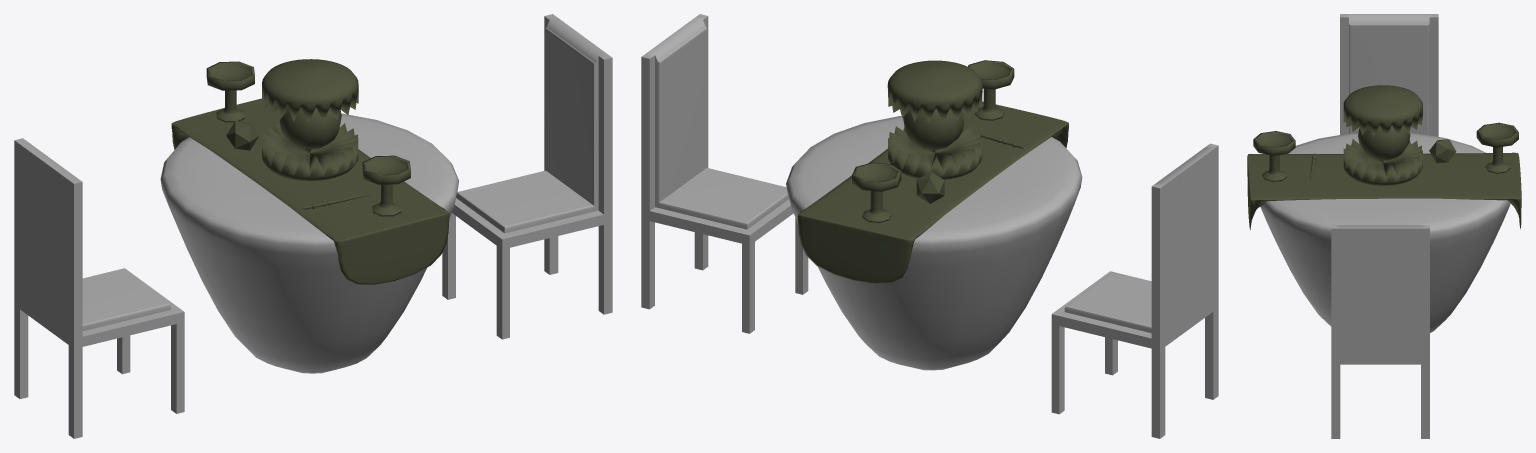
Rendered from mesa5Adiv.fbx.
The picture shows the model from 3 angles, left to right: view 1: azimuth 30°, elevation 25°; view 2: azimuth 150°, elevation 25°; view 3: azimuth 270°, elevation 25°; orthographic projection. The views are drawn at different scales.
Visible parts, largest first — view 1: polySurface5342, polySurface5343, pCylinder555, pCylinder554, pCylinder553, pCylinder557, polySurface5349, pPlatonic6; view 2: polySurface5342, polySurface5343, pCylinder555, pCylinder554, pCylinder557, polySurface5349, pCylinder553, pPlatonic6; view 3: polySurface5342, polySurface5343, pCylinder555, pCylinder554, polySurface5349, pCylinder553, pCylinder557, pPlatonic6.
Boxes of the visible parts, bbox=[...] form: polySurface5342: bbox=[14, 14, 612, 438]; polySurface5343: bbox=[171, 98, 449, 285]; pCylinder555: bbox=[262, 59, 358, 122]; pCylinder554: bbox=[262, 123, 358, 180]; pCylinder553: bbox=[362, 155, 410, 216]; pCylinder557: bbox=[206, 61, 254, 122]; polySurface5349: bbox=[279, 107, 341, 149]; pPlatonic6: bbox=[226, 121, 259, 150]; polySurface5342: bbox=[641, 14, 1218, 438]; polySurface5343: bbox=[797, 101, 1068, 283]; pCylinder555: bbox=[887, 60, 982, 122]; pCylinder554: bbox=[888, 125, 982, 179]; pCylinder557: bbox=[852, 162, 901, 223]; polySurface5349: bbox=[903, 108, 964, 149]; pCylinder553: bbox=[968, 60, 1014, 120]; pPlatonic6: bbox=[916, 171, 944, 203]; polySurface5342: bbox=[1260, 14, 1510, 438]; polySurface5343: bbox=[1247, 152, 1521, 229]; pCylinder555: bbox=[1343, 85, 1422, 137]; pCylinder554: bbox=[1343, 139, 1422, 185]; polySurface5349: bbox=[1358, 125, 1410, 160]; pCylinder553: bbox=[1253, 131, 1295, 182]; pCylinder557: bbox=[1476, 122, 1518, 173]; pPlatonic6: bbox=[1429, 139, 1456, 163].
Size of the model in its own units: 331 by 171 by 179.
